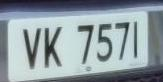1: (130, 16, 141, 62)
5: (94, 18, 115, 69)
7: (73, 18, 97, 70), (113, 17, 133, 66)
K: (41, 22, 66, 73)
V: (20, 22, 44, 73)
